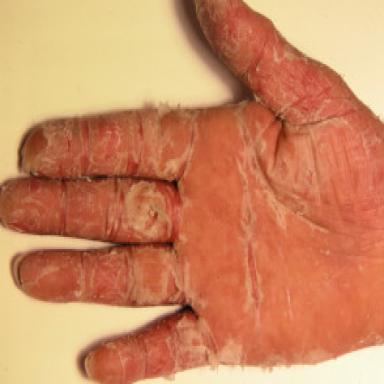eczema: (0, 108, 243, 381), (197, 1, 384, 321), (262, 349, 336, 366)
